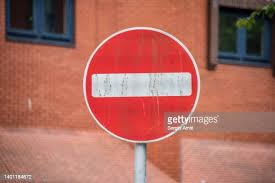No entry: (83, 26, 201, 144)
